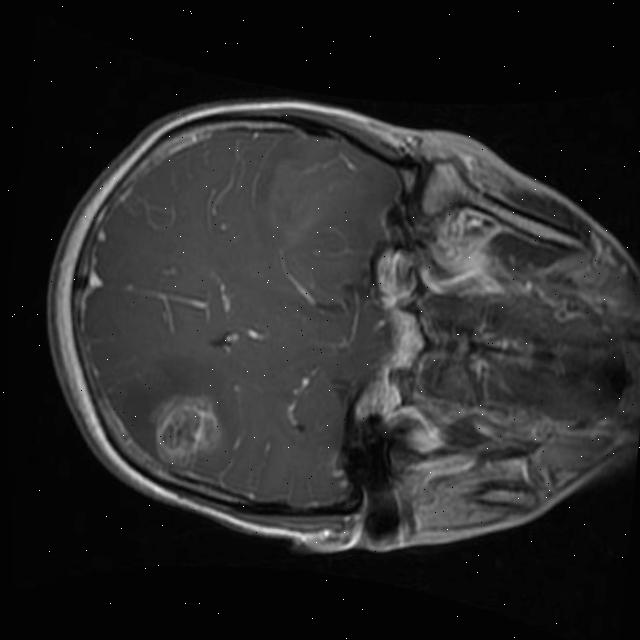Glioma: (143, 387, 222, 475)
Pituitary: (384, 306, 428, 372)
